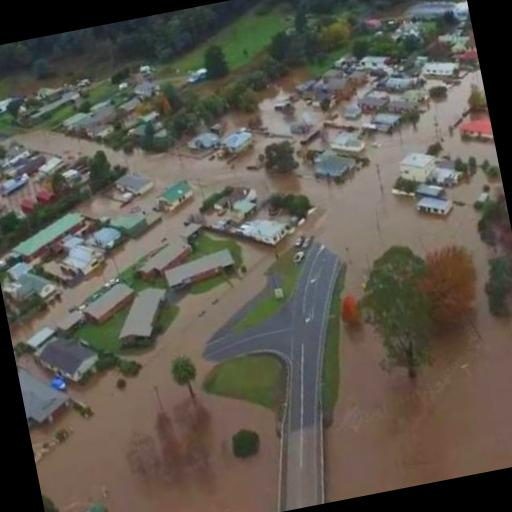flood: (111, 71, 512, 503), (30, 245, 280, 512), (10, 190, 202, 347), (223, 67, 326, 137), (75, 188, 158, 219), (24, 131, 102, 155)
house: (1, 210, 94, 266), (34, 330, 106, 391), (16, 357, 74, 432), (160, 243, 240, 295), (109, 286, 169, 346), (77, 278, 140, 328), (50, 232, 108, 284), (0, 264, 62, 312), (132, 237, 200, 277), (210, 184, 262, 226), (410, 180, 456, 224), (152, 177, 201, 217), (241, 212, 292, 250), (310, 146, 358, 184), (456, 107, 495, 151), (0, 173, 41, 214), (398, 149, 441, 187), (421, 55, 464, 85), (113, 210, 152, 242), (326, 74, 358, 102), (222, 130, 256, 156)
